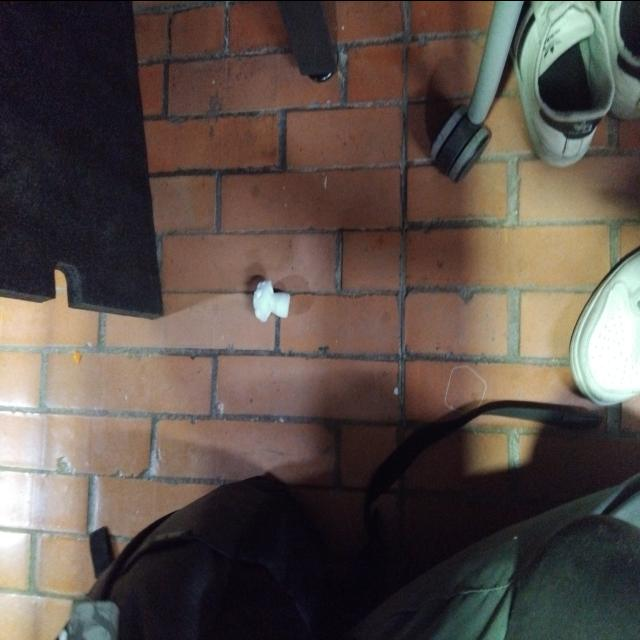Hongo: (242, 274, 294, 330)
